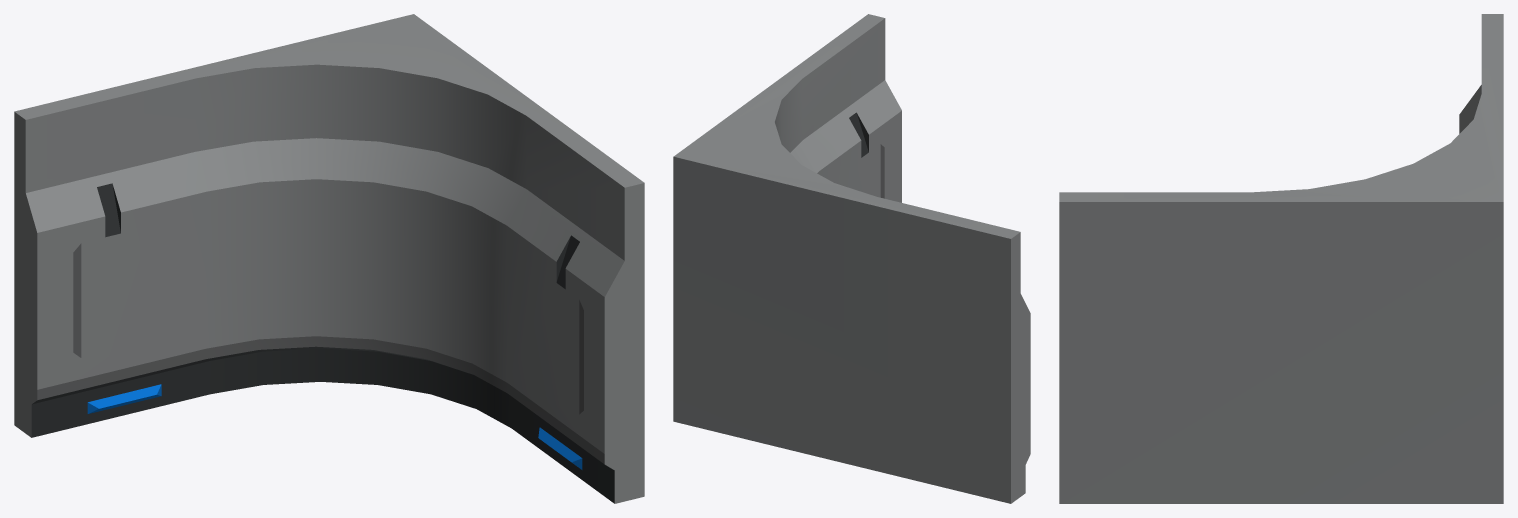
Rendered from Wall_type_B_045.fbx.
The picture shows the model from 3 angles, left to right: view 1: azimuth 30°, elevation 25°; view 2: azimuth 150°, elevation 25°; view 3: azimuth 270°, elevation 25°; orthographic projection. The views are drawn at different scales.
Visible parts, largest first — view 1: Wall_type_B_045; view 2: Wall_type_B_045; view 3: Wall_type_B_045.
Boxes of the visible parts, left/top/right/bottom form: Wall_type_B_045: left=14, top=14, right=644, bottom=503; Wall_type_B_045: left=673, top=14, right=1030, bottom=503; Wall_type_B_045: left=1059, top=14, right=1503, bottom=503.
Size of the model in its own units: 200 by 200 by 150.
